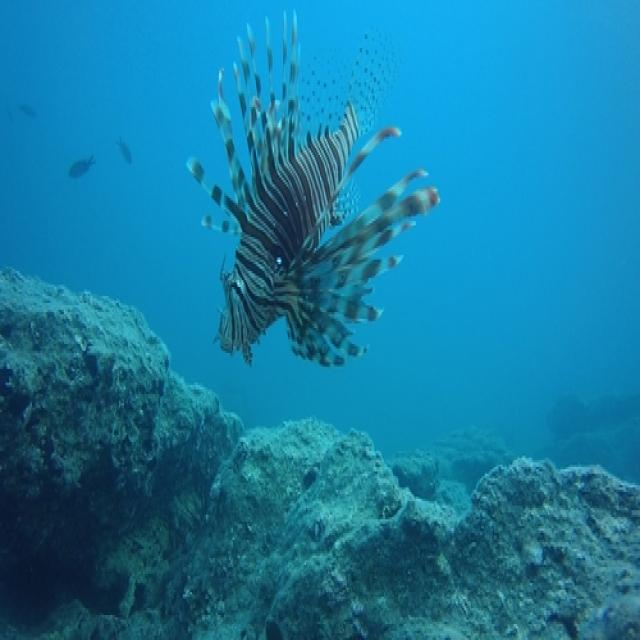Aslan Baligi: (184, 7, 440, 369)
